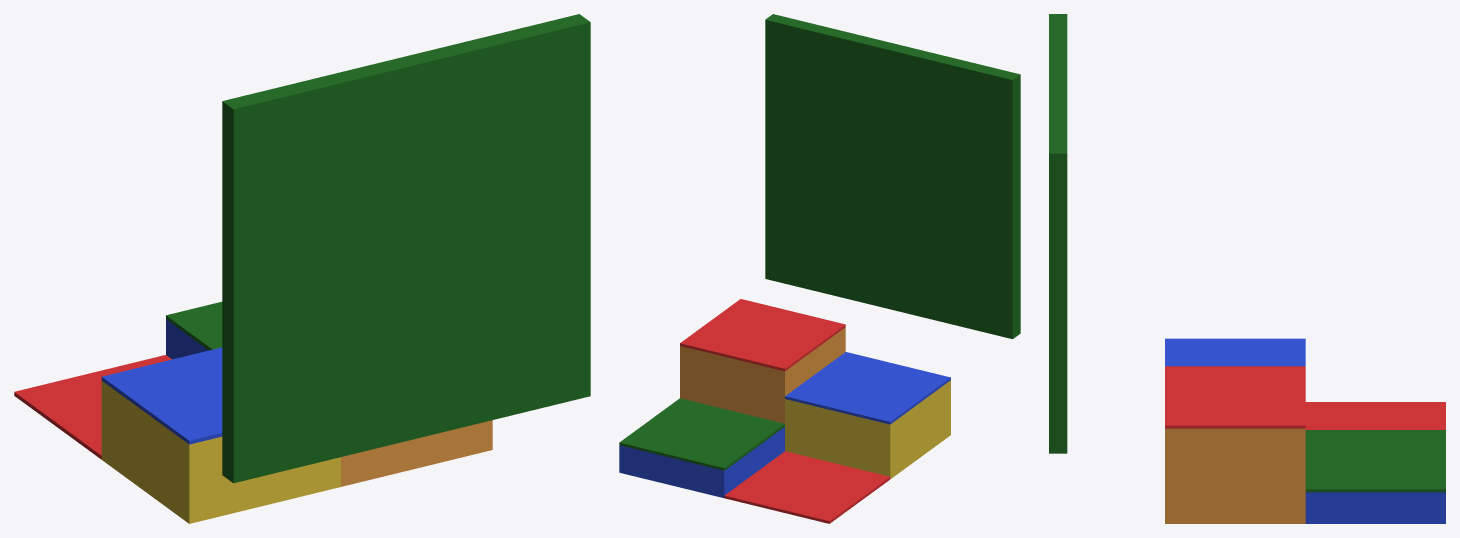
Rendered from room.glb.
3 renders of one model, left to right at view 1: azimuth 30°, elevation 25°; view 2: azimuth 150°, elevation 25°; view 3: azimuth 270°, elevation 25°, orthographic. The views are drawn at different scales.
Visible parts, largest first — view 1: Cube, Cube.002, Cube.008, Cube.006, Cube.003, Cube.005, Cube.001; view 2: Cube, Cube.002, Cube.006, Cube.003, Cube.008, Cube.005, Cube.009, Cube.001; view 3: Cube.006, Cube.009, Cube.005, Cube, Cube.001, Cube.008, Cube.003.
Part boxes in pixels (x1,y1,x2,y2): Cube: (222,14,590,483); Cube.002: (101,381,340,523); Cube.008: (101,347,222,444); Cube.006: (341,420,492,486); Cube.003: (14,355,171,459); Cube.005: (166,301,222,350); Cube.001: (166,319,208,359); Cube: (765,14,1020,339); Cube.002: (785,380,950,478); Cube.006: (680,327,845,423); Cube.003: (724,451,890,523); Cube.008: (785,352,950,424); Cube.005: (619,398,784,470); Cube.009: (680,299,845,371); Cube.001: (619,427,784,497); Cube.006: (1165,428,1305,523); Cube.009: (1165,366,1305,428); Cube.005: (1305,430,1445,492); Cube: (1049,14,1067,453); Cube.001: (1305,492,1445,523); Cube.008: (1165,338,1305,366); Cube.003: (1305,402,1445,429).
Size of the model in its own units: 4.71 by 5.98 by 5.65.
